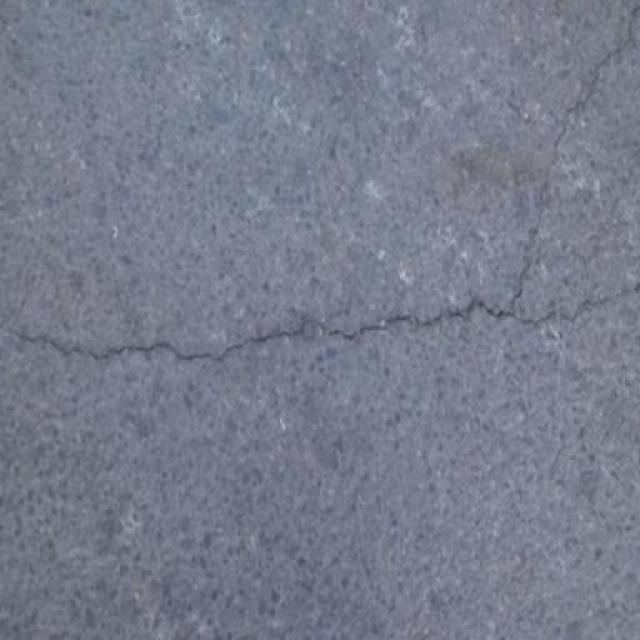Crack: (0, 270, 640, 382)
